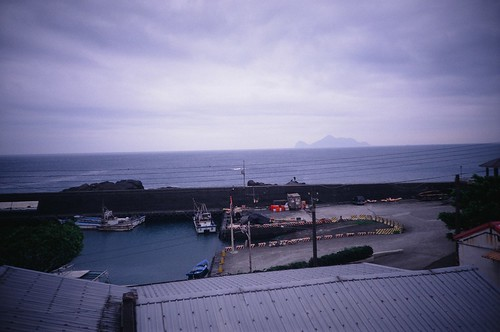turtleIslandLeft: (294, 134, 369, 147)
